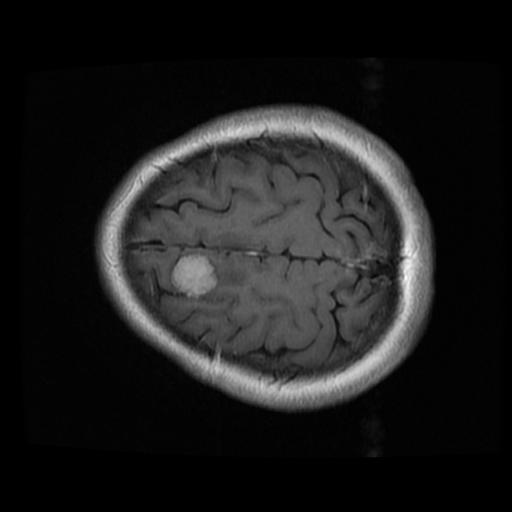meningioma: (170, 253, 216, 300)
